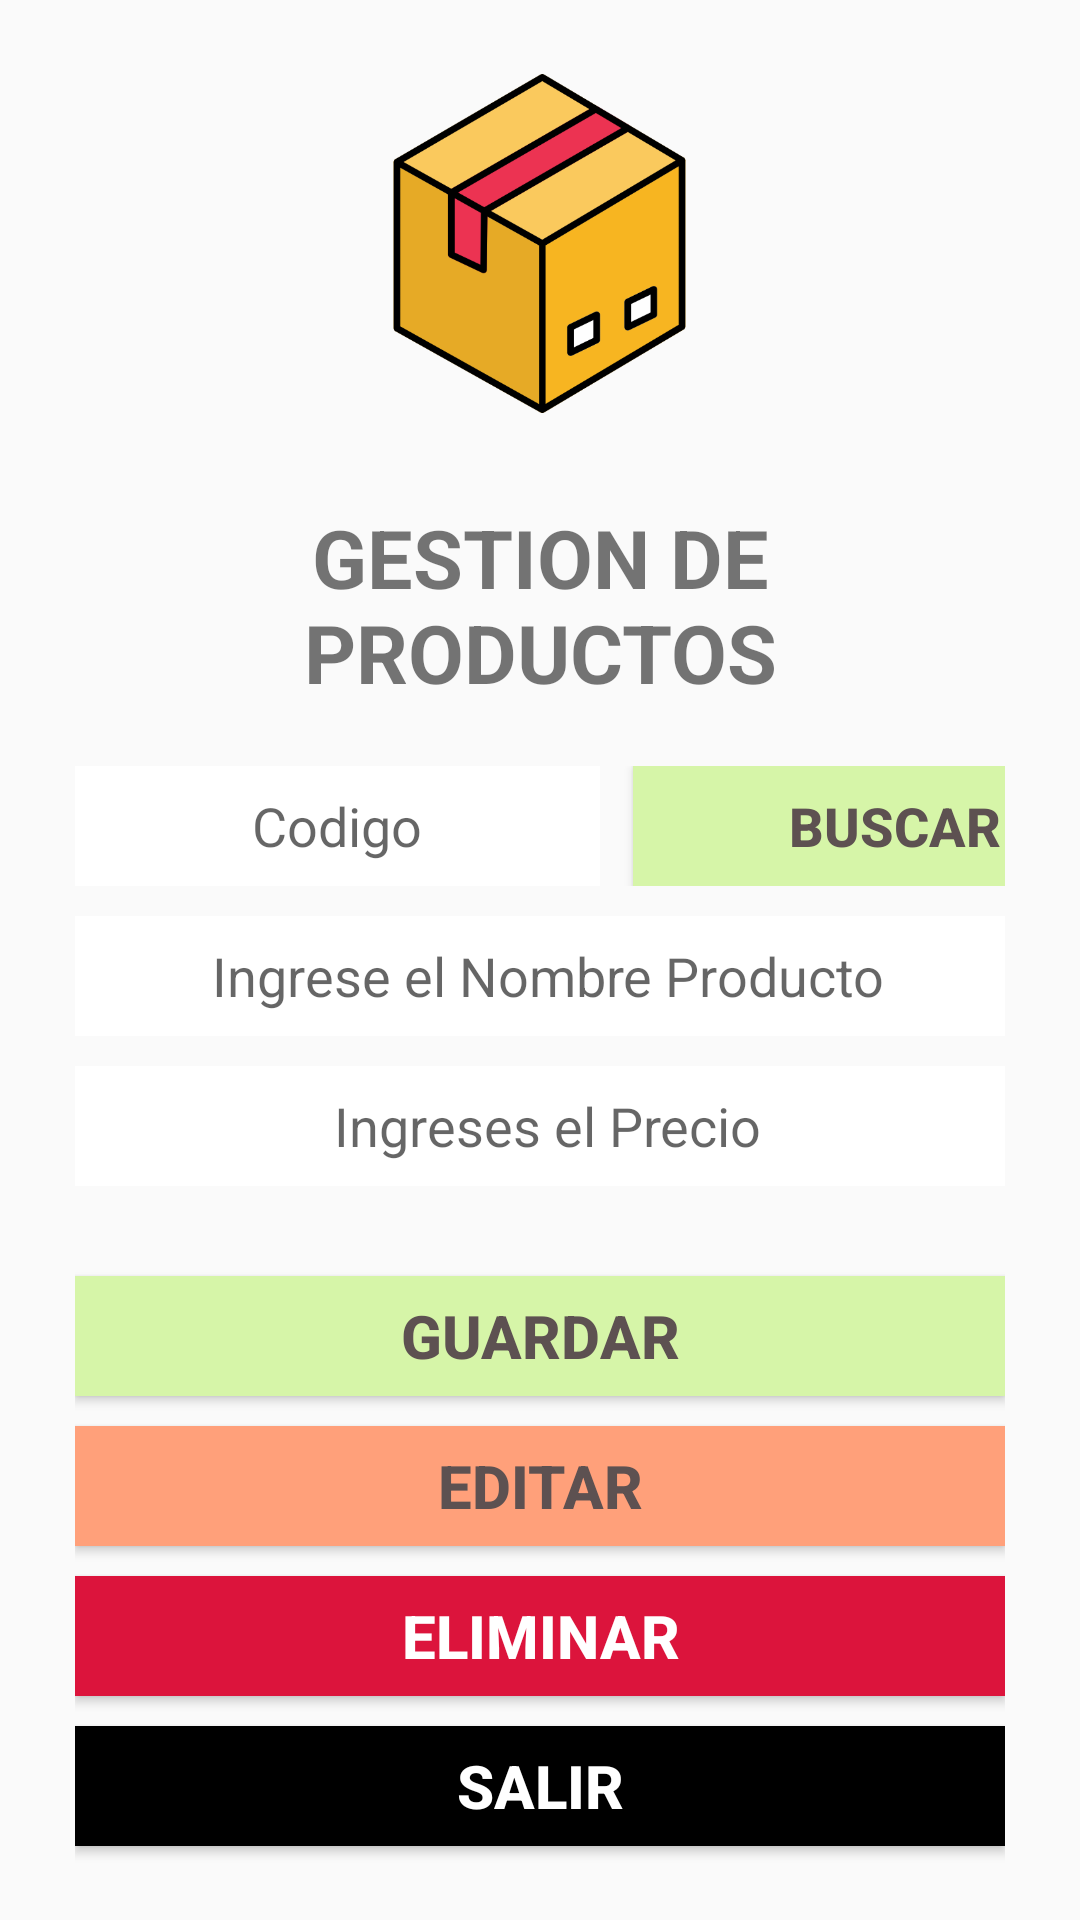

Locate icon controls on the screen. Image size 1080px x 1920px, boxes as (x1, y1, x2, y2).
caja de entrega: (393, 74, 686, 413)
